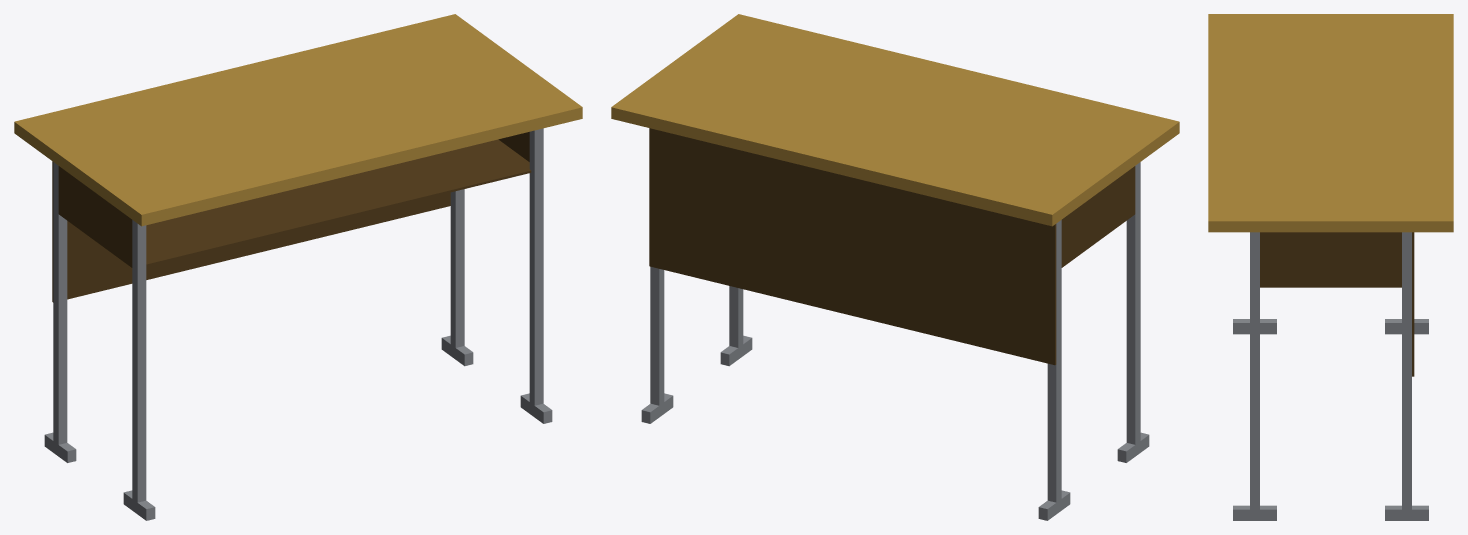
File: mesa grande.fbx
3 views of the same model, side by side, from view 1: azimuth 30°, elevation 25°; view 2: azimuth 150°, elevation 25°; view 3: azimuth 270°, elevation 25° (orthographic). The views are drawn at different scales.
Parts seen in each view (by area): view 1: superficie.001, cubiertas laterales.001, patas.001, cubierta frontal.001; view 2: superficie.001, cubierta frontal.001, patas.001, cubiertas laterales.001; view 3: superficie.001, cubiertas laterales.001, patas.001, cubierta frontal.001.
Boxes of the visible parts, x1,y1,x2,y2 form: superficie.001: (14,14,582,226); cubiertas laterales.001: (58,132,531,267); patas.001: (44,128,552,520); cubierta frontal.001: (52,161,450,302); superficie.001: (611,14,1179,226); cubierta frontal.001: (649,128,1056,365); patas.001: (641,162,1149,520); cubiertas laterales.001: (1061,166,1135,267); superficie.001: (1208,14,1453,232); cubiertas laterales.001: (1260,232,1401,287); patas.001: (1233,232,1428,520); cubierta frontal.001: (1412,232,1414,376).
Bounding box in the file's own units: 100 × 50 × 69.24.
